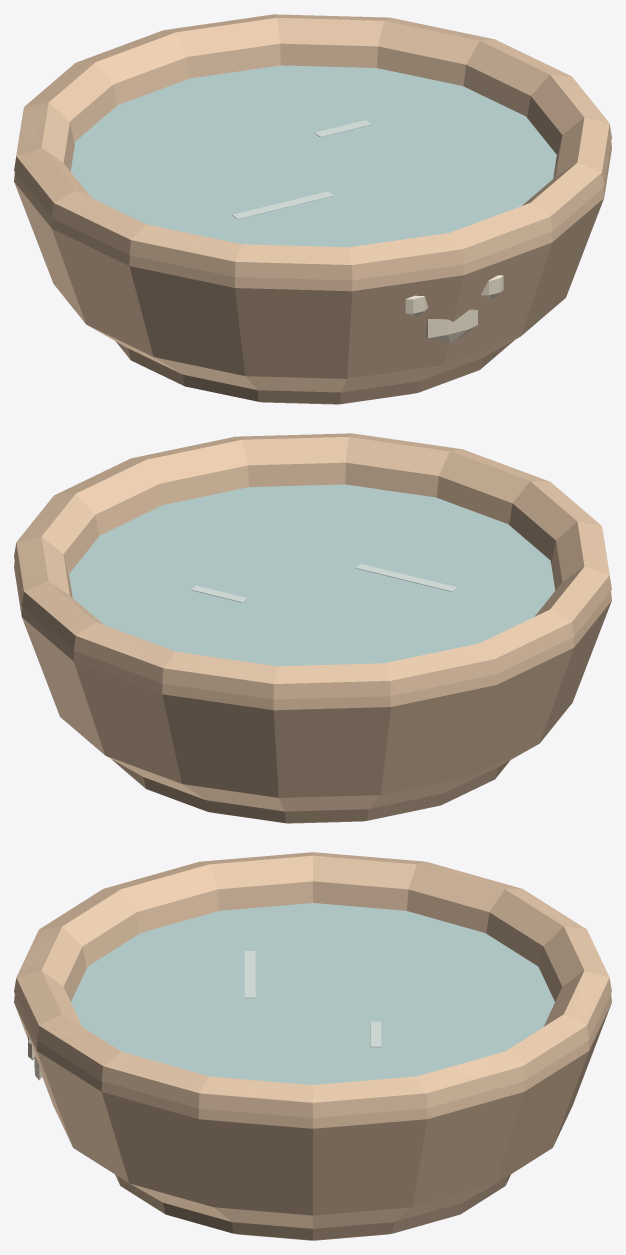
The model's file is crafted-coop-water-2.glb.
The picture shows the model from 3 angles, top to bottom: view 1: azimuth 30°, elevation 25°; view 2: azimuth 150°, elevation 25°; view 3: azimuth 270°, elevation 25°; orthographic projection.
Visible parts, largest first — view 1: ceramic-bowl, water-level, glazed-rim, foot-ring, paw-pad, water-glint; view 2: ceramic-bowl, water-level, glazed-rim, foot-ring, water-glint; view 3: ceramic-bowl, water-level, glazed-rim, foot-ring, water-glint.
Part boxes in pixels (bbox=[...]): ceramic-bowl: bbox=[14, 14, 611, 392]; water-level: bbox=[70, 65, 556, 247]; glazed-rim: bbox=[14, 14, 611, 280]; foot-ring: bbox=[116, 340, 514, 404]; paw-pad: bbox=[426, 309, 477, 343]; water-glint: bbox=[232, 191, 333, 219]; ceramic-bowl: bbox=[14, 433, 611, 811]; water-level: bbox=[69, 484, 555, 666]; glazed-rim: bbox=[14, 433, 611, 699]; foot-ring: bbox=[111, 759, 509, 823]; water-glint: bbox=[356, 564, 457, 591]; ceramic-bowl: bbox=[14, 852, 611, 1228]; water-level: bbox=[71, 903, 554, 1084]; glazed-rim: bbox=[14, 852, 611, 1117]; foot-ring: bbox=[115, 1174, 510, 1240]; water-glint: bbox=[244, 951, 255, 998].
Bounding box in the file's own units: 0.76 × 0.265 × 0.76.
